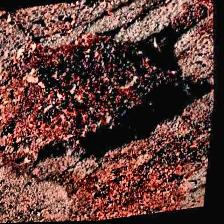pothole: (0, 14, 222, 180)
